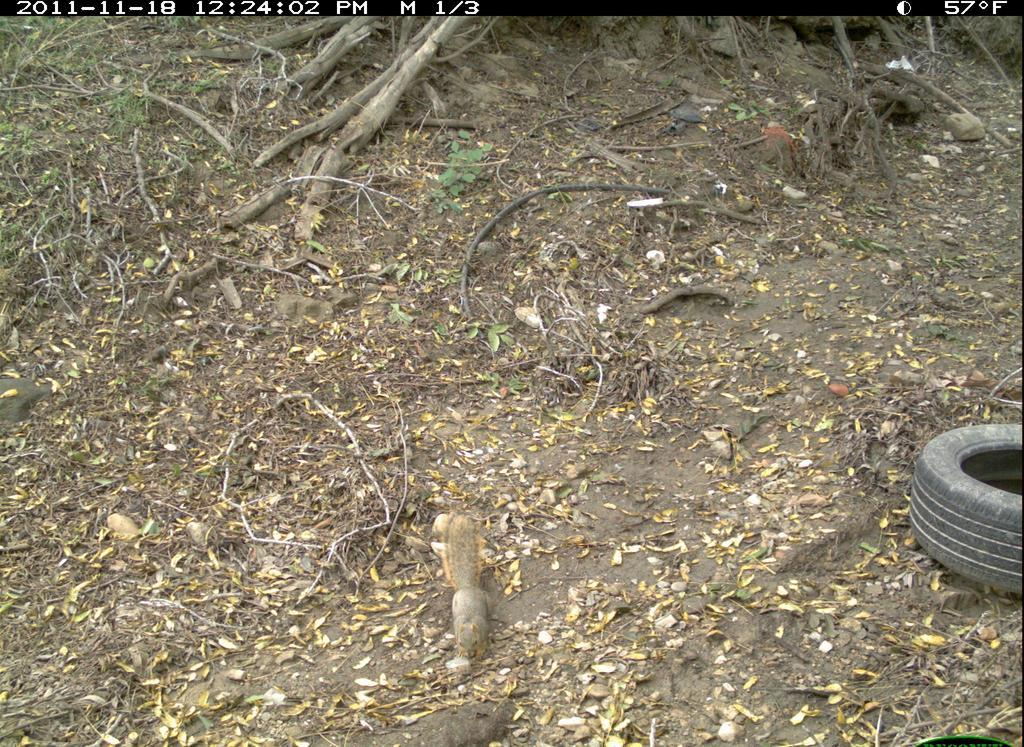squirrel: (443, 505, 501, 689)
